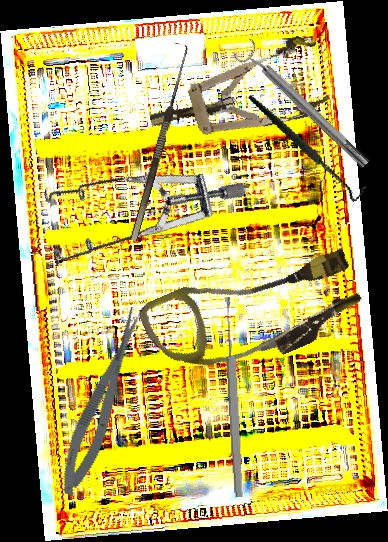Cannula: (135, 224, 372, 401)
Fixation Ring: (232, 36, 375, 176)
Hook Surgical: (247, 68, 371, 224), (119, 42, 193, 242)
Micro Scissor: (50, 303, 156, 501)
Speculum: (20, 115, 248, 322), (139, 31, 335, 159)
Surgical Spoon: (222, 296, 245, 498)
